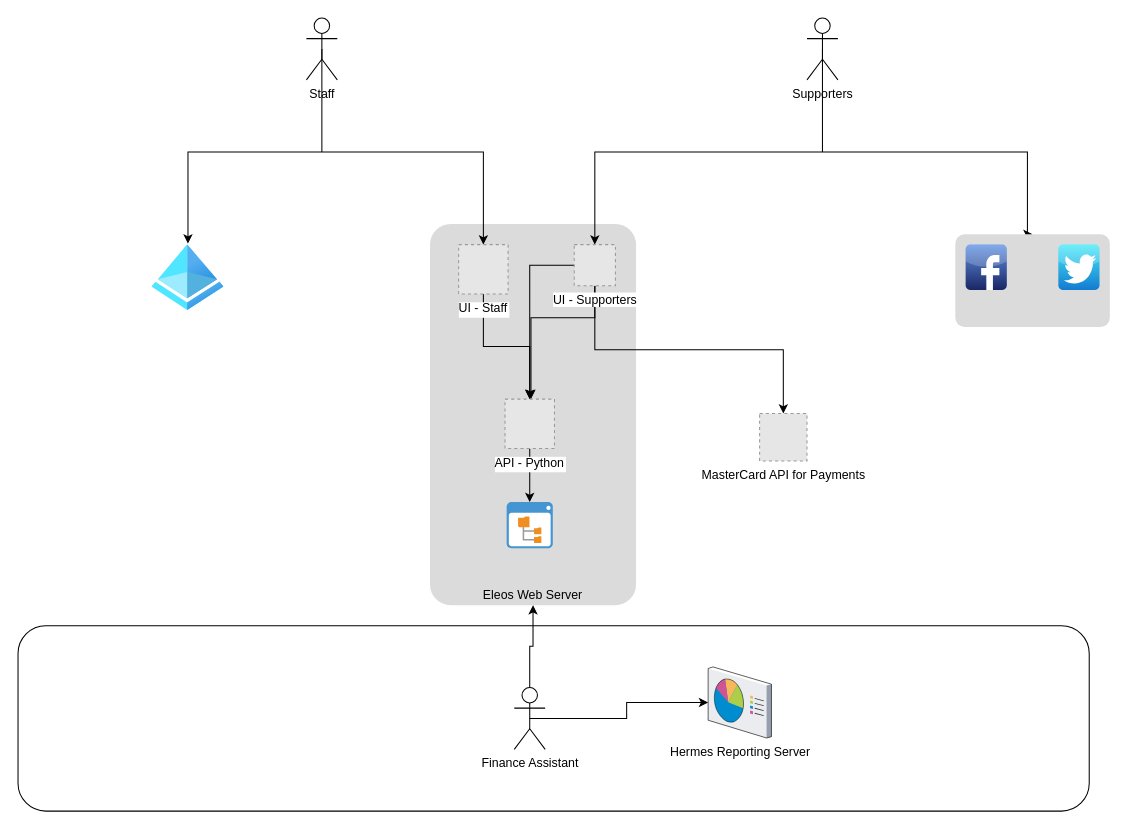
Some shapes in this 1128 by 829 pixel diagram are drawn without their labels. Grey dashed boxes stand in for pictures. The box of each missing label's shape, as (x1, y1, x2, y2) in pixels:
Active Directory: (151, 244, 224, 310)
Alpha VPN: (17, 625, 1089, 811)
Authentication Providers: (955, 234, 1109, 327)
File system data persistance: (506, 502, 552, 548)
